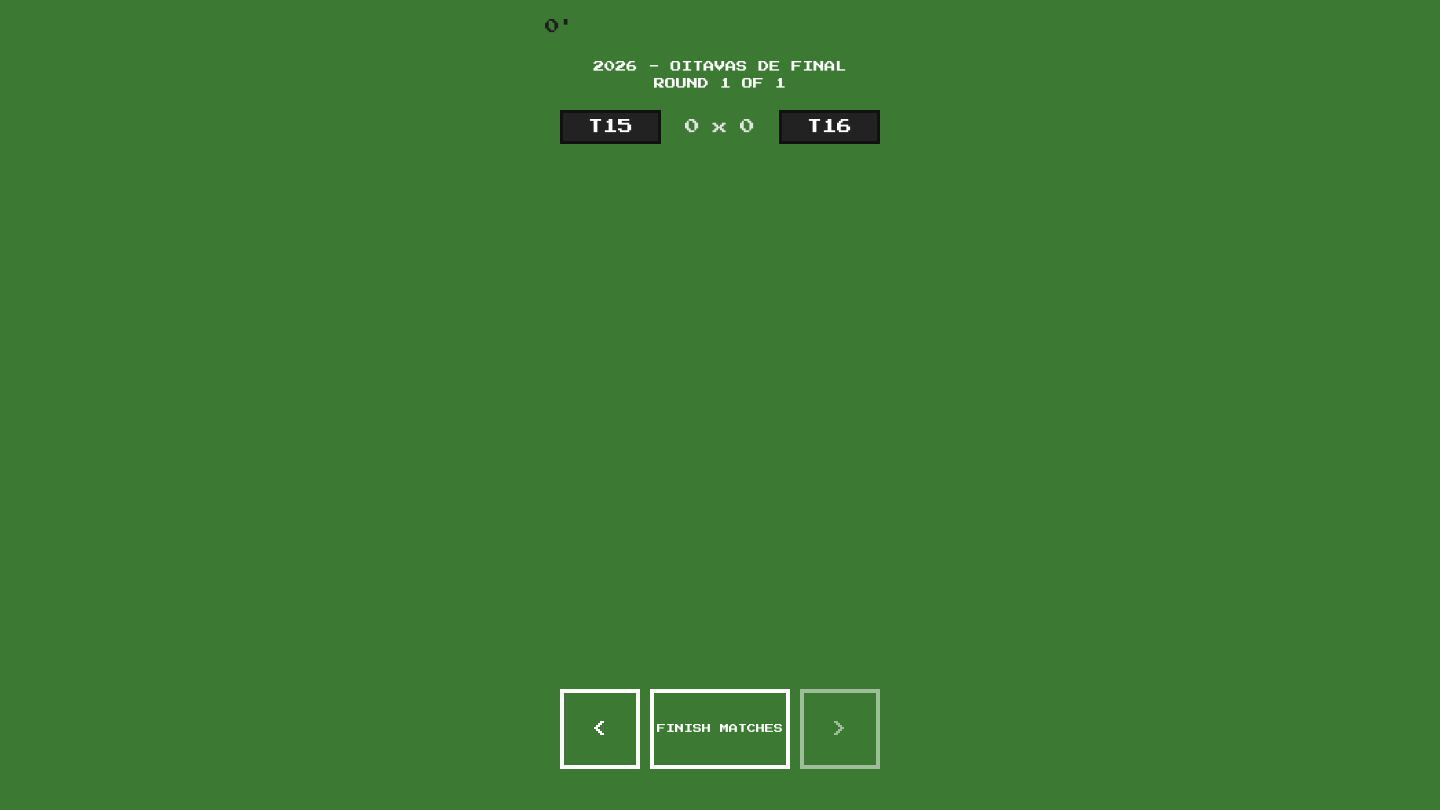
Test case: MatchSimulator — knockout phase › opens on the page holding the human's tie
The image size is (1440, 810).
Expected: the heading "T15" is shown, [588,116,633,138]
Click the button "<" at (600, 729), box [560,689,640,769]
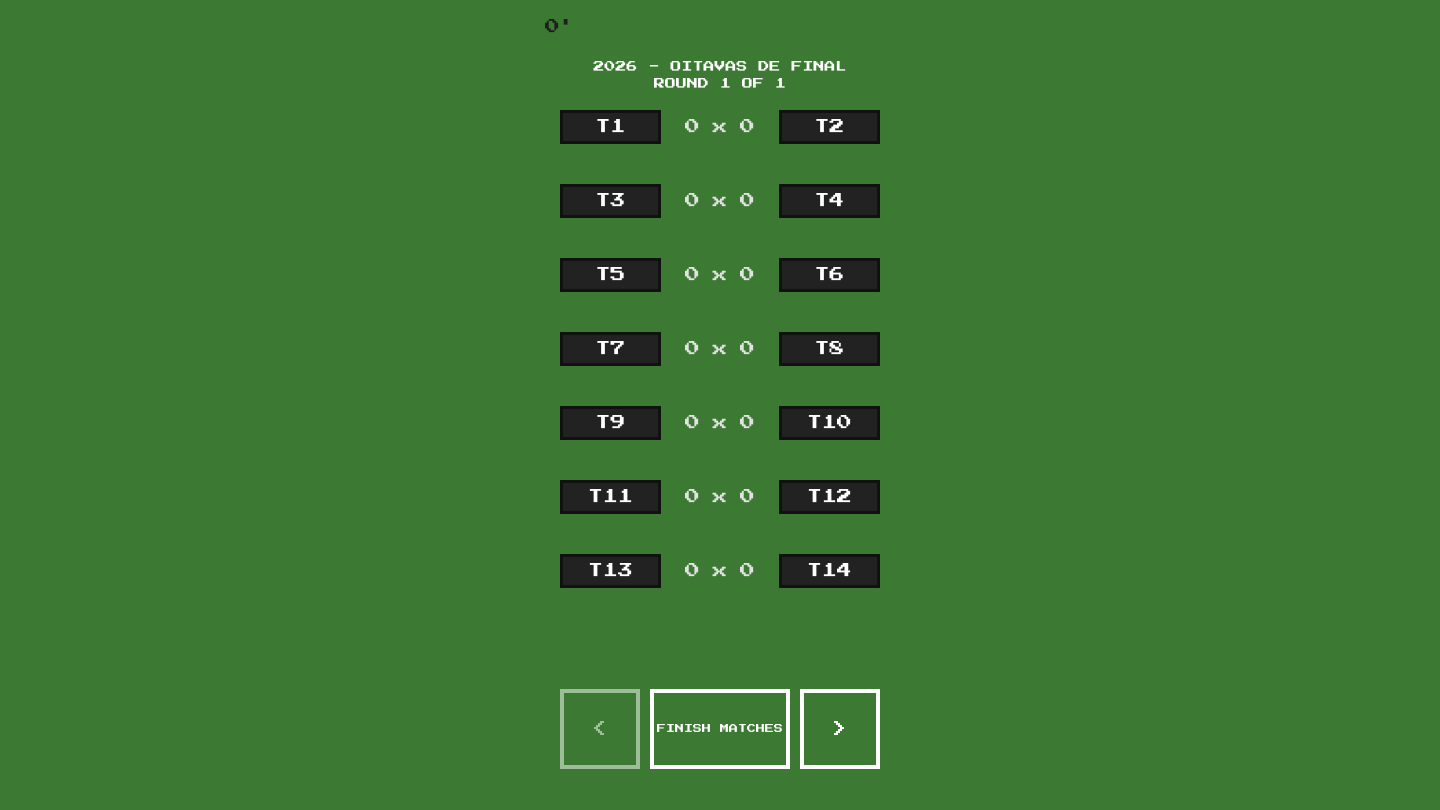
Expected: the heading "T1" is shown, [596,116,626,138]
Result: the heading "T15" is gone
